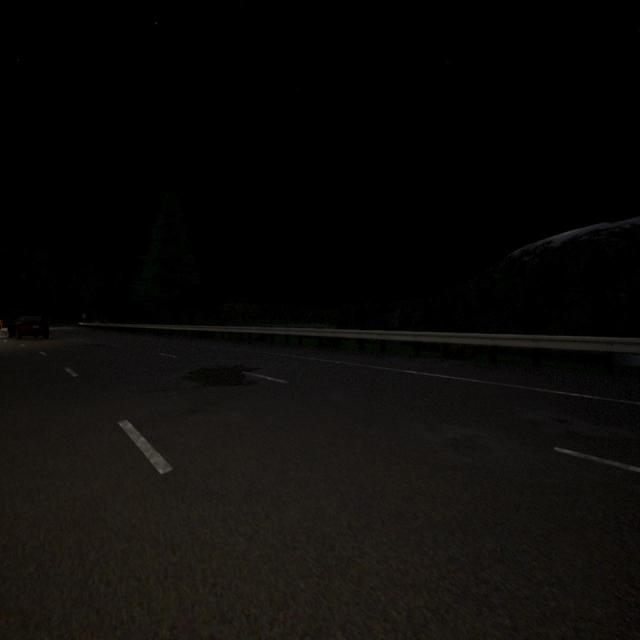Vehicle: (8, 316, 49, 339)
